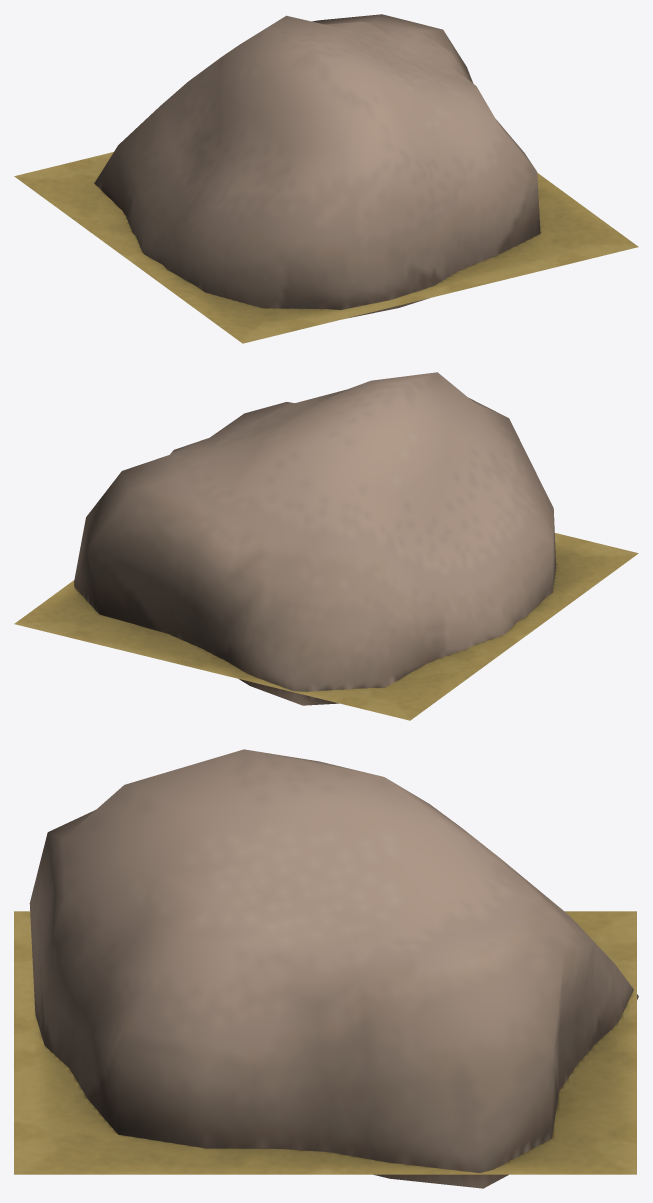
The model's file is K-Sol_Rocher1.FBX.
3 renders of one model, top to bottom at view 1: azimuth 30°, elevation 25°; view 2: azimuth 150°, elevation 25°; view 3: azimuth 270°, elevation 25°, orthographic. The views are drawn at different scales.
Visible parts, largest first — view 1: Sol_Rocher1; view 2: Sol_Rocher1; view 3: Sol_Rocher1.
Part boxes in pixels (box(x1,y1,x2,y2)): Sol_Rocher1: box(14, 14, 638, 343); Sol_Rocher1: box(14, 372, 638, 720); Sol_Rocher1: box(14, 749, 638, 1188).
Bounding box in the file's own units: 2 × 0.9876 × 2.01.
